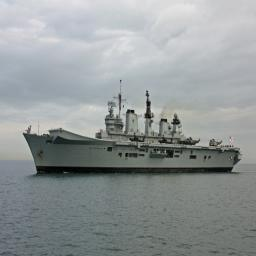Portanaves: (24, 78, 244, 177)
